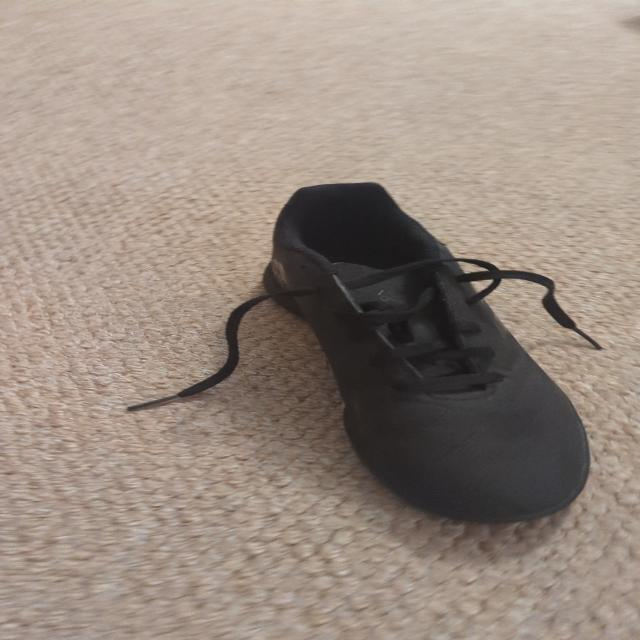shoe: (255, 178, 596, 525)
